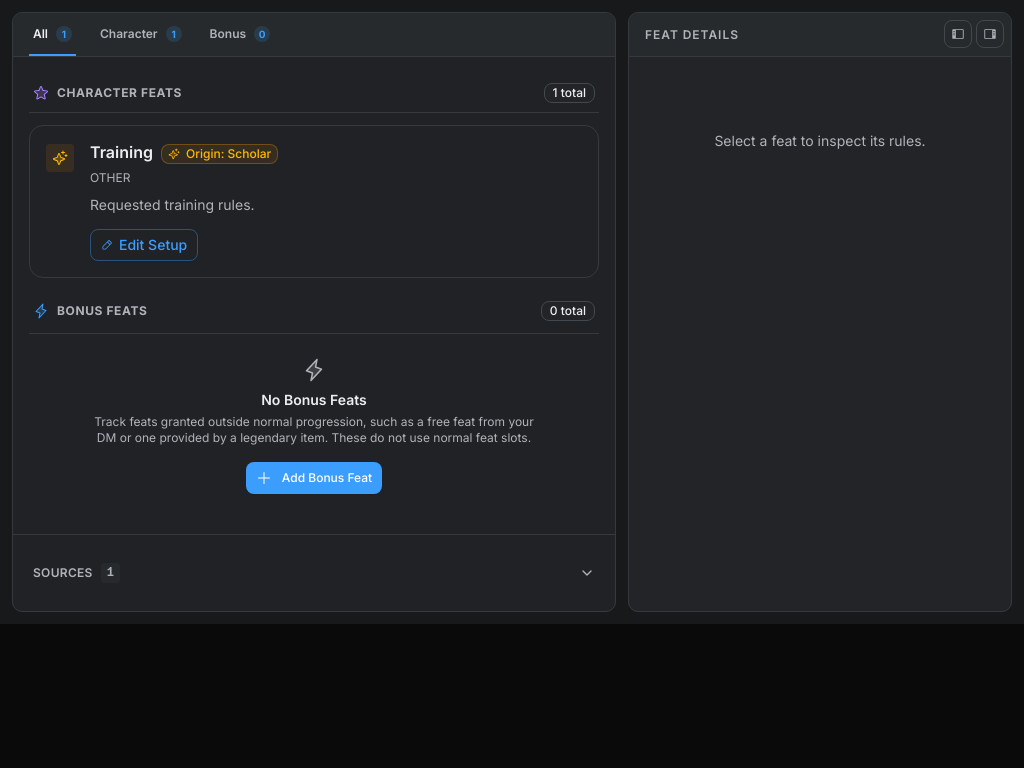
it: editing exposes the retained exact spell without enabling new hidden-source choices
Step 1. Click the button "Edit Setup" → (144, 245), box [90,229,198,261]
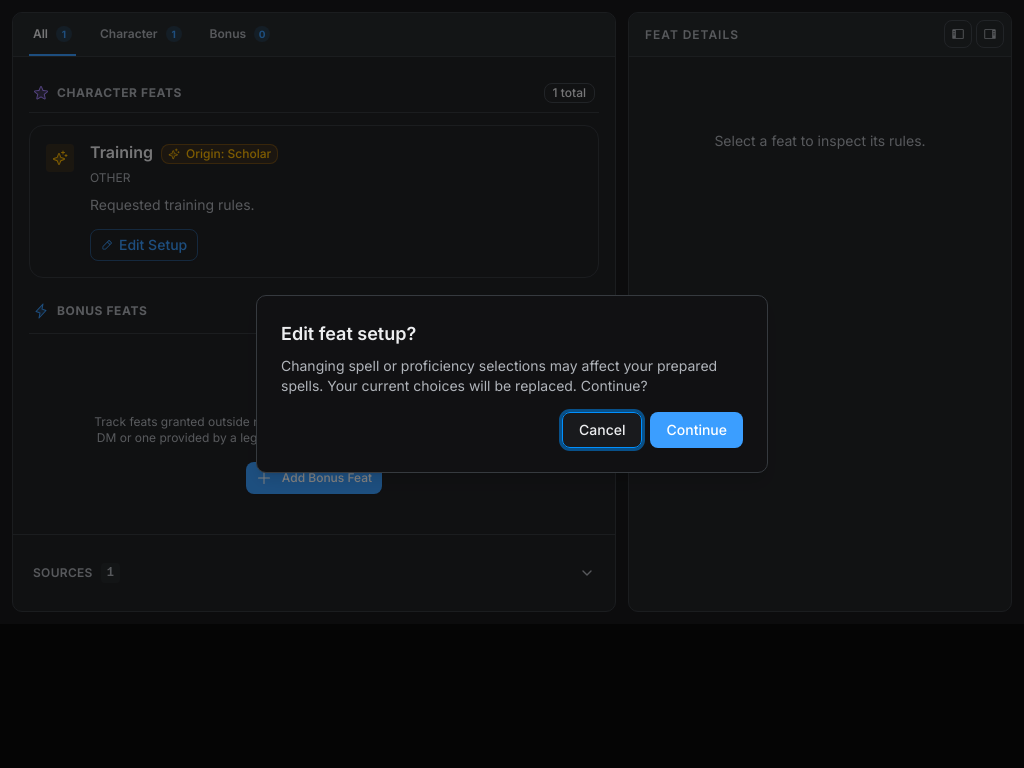
Step 2. Click the button "Continue" → (697, 430), box [650,412,743,448]
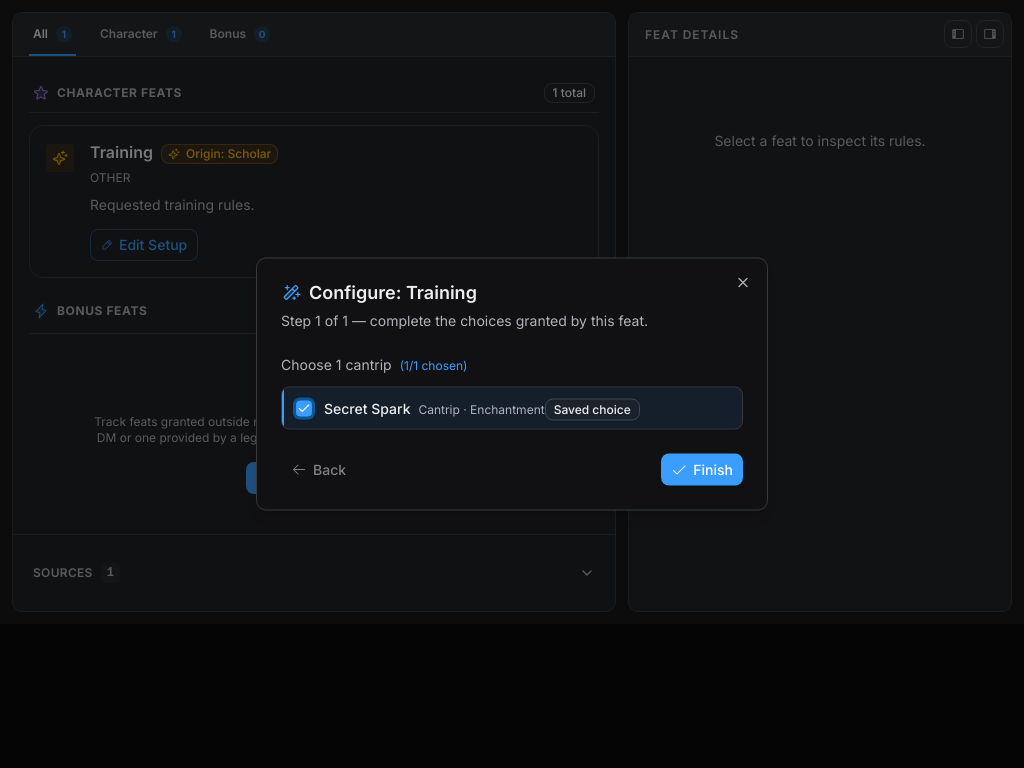
Now the text "Saved choice" is shown, box [545,398,640,420]
